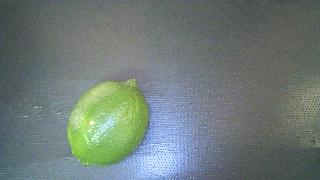EXPORTACION: (67, 79, 149, 166)
